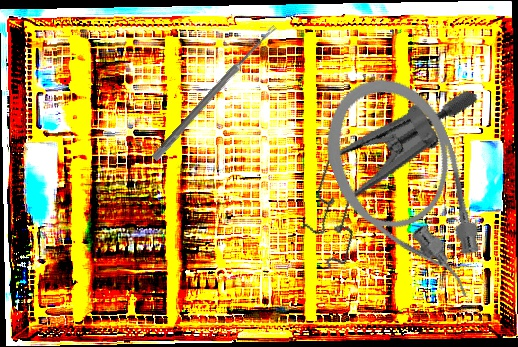Cannula: (307, 61, 504, 325)
Speculum: (289, 53, 481, 297)
Surgical Spoon: (151, 22, 278, 163)
